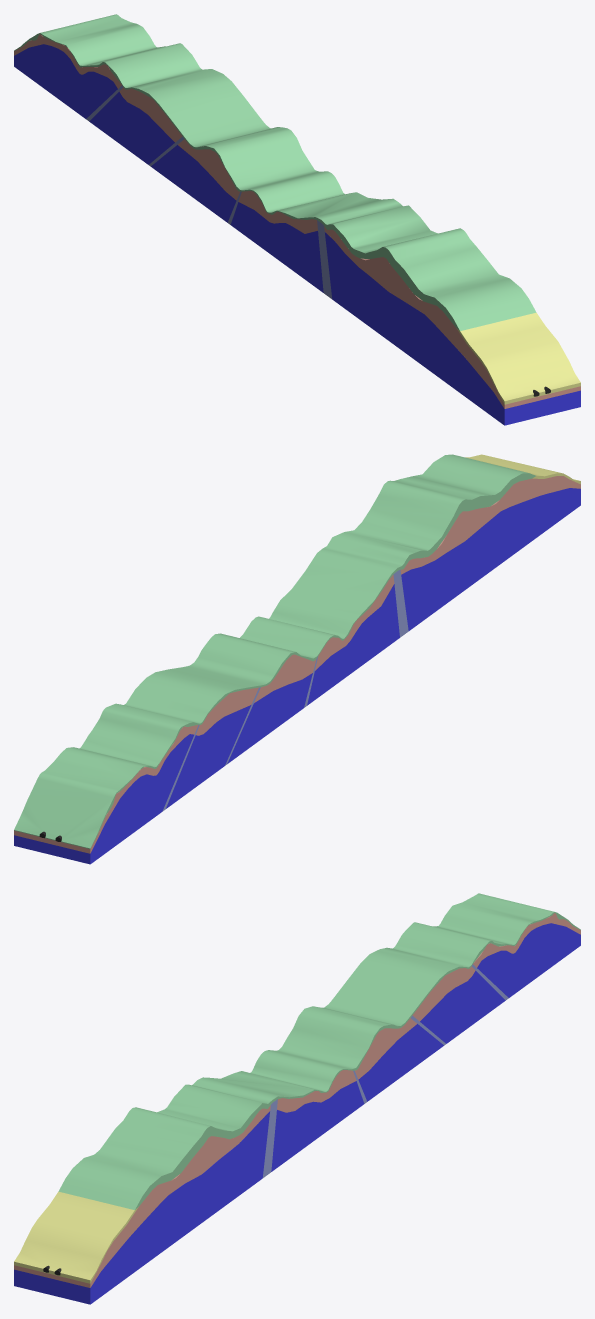
The picture shows the model from 3 angles, top to bottom: view 1: azimuth 30°, elevation 25°; view 2: azimuth 150°, elevation 25°; view 3: azimuth 330°, elevation 25°; orthographic projection.
Parts seen in each view (by area): view 1: 01, 04, 03, 02, fracture; view 2: 01, 04, 03, fracture, 02; view 3: 01, 04, 03, 02, fracture.
Part boxes in pixels (x1,y1,x2,y2): 01: (14,14,536,330); 04: (14,44,580,425); 03: (14,34,580,408); 02: (456,312,580,404); fracture: (86,85,332,299); 01: (14,454,535,848); 04: (14,488,580,864); 03: (14,476,580,853); fracture: (162,570,408,811); 02: (465,454,580,484); 01: (58,893,580,1209); 04: (14,923,580,1304); 03: (14,913,580,1287); 02: (14,1191,138,1283); fracture: (262,964,508,1177).
Bounding box in the file's own units: 15.5 × 17.68 × 172.
